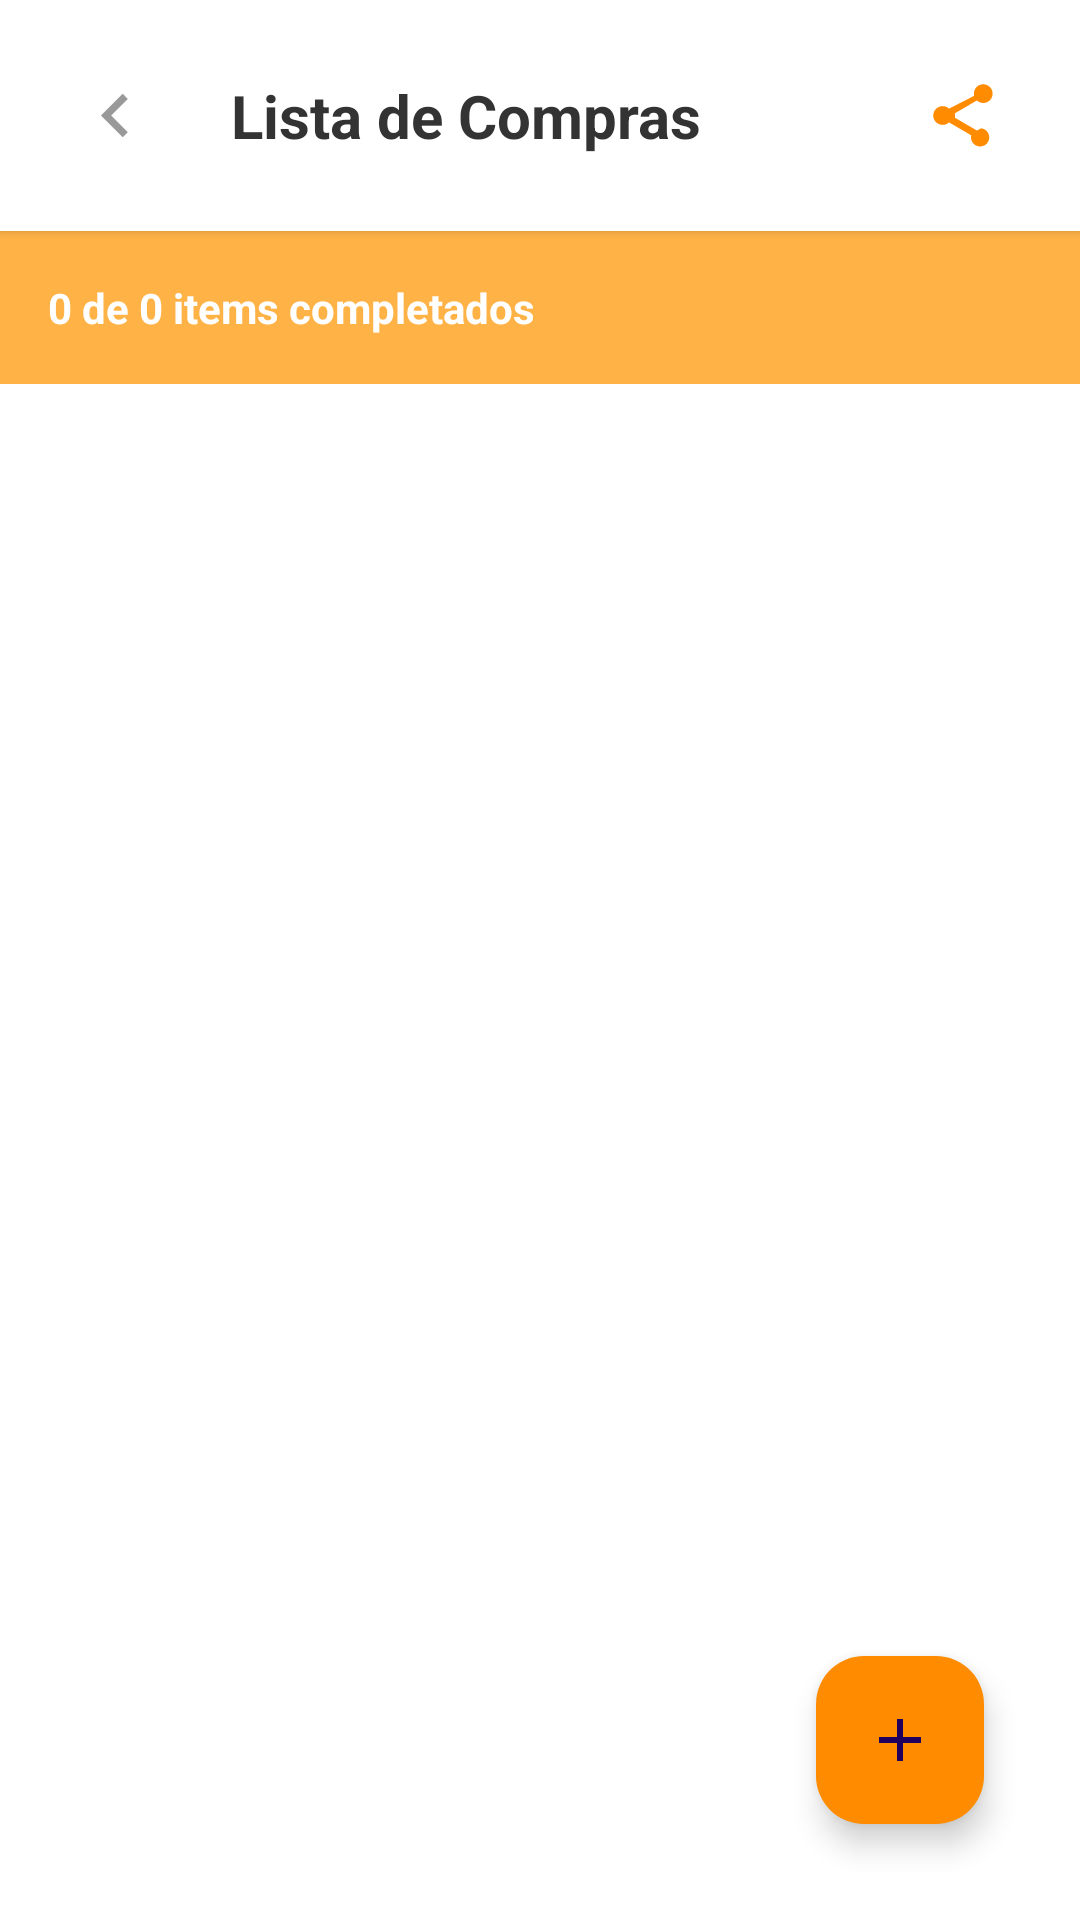

Screen size 1080*1920. Icon name, then its box in pixels as (x1, y1, x2, y2):
Agregar item: (816, 1656, 984, 1824)
share: (933, 84, 993, 147)
